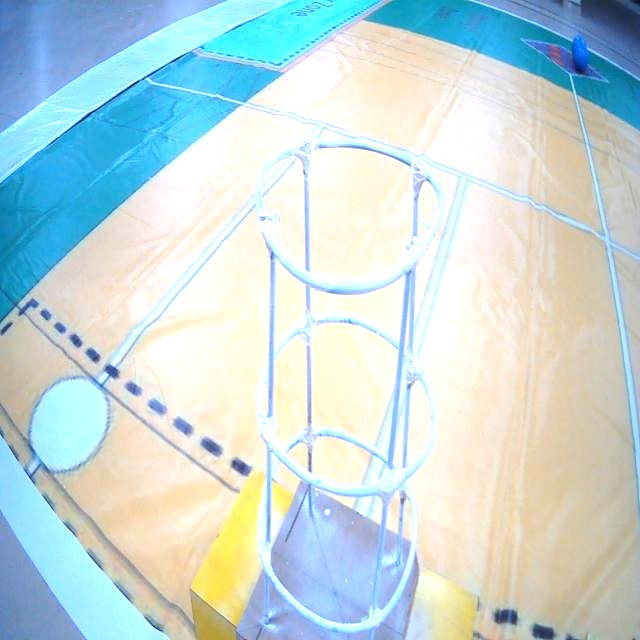silo: (252, 139, 438, 640)
